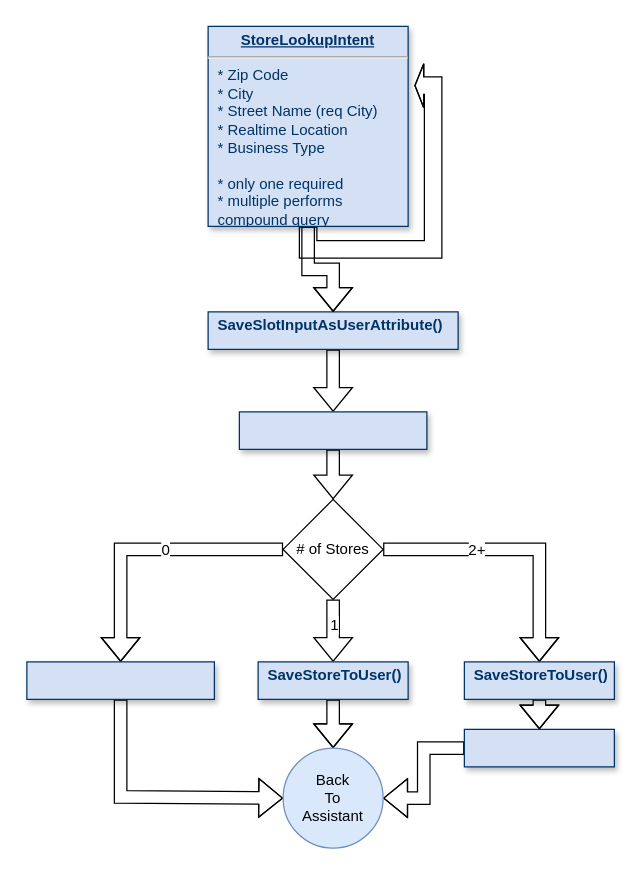
The diagram is 644 pixels wide and 871 high, and some of its shapes have lost their labels. Each missing label, with the centre of its shape:
FindStoreByLocation(): the point at 333,432
NotifyShareholders(): the point at 121,682
PresentOptions(): the point at 540,749
